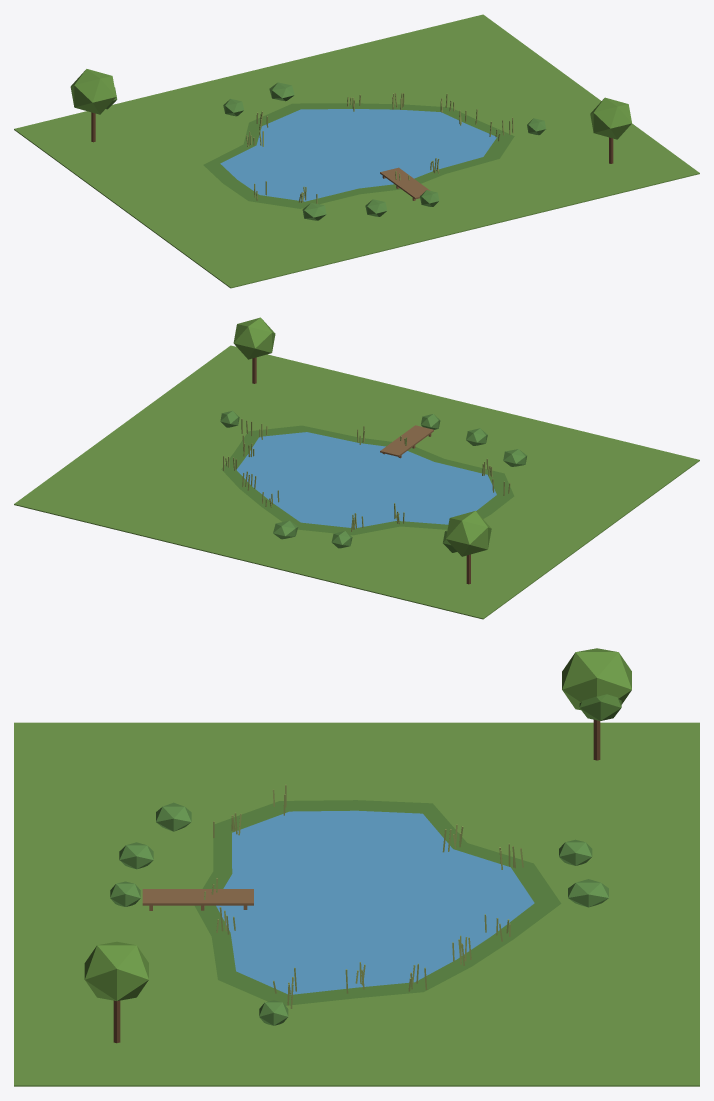
Rendered from Kir_alan_gol_1_Hafif.fbx.
The picture shows the model from 3 angles, top to bottom: view 1: azimuth 30°, elevation 25°; view 2: azimuth 150°, elevation 25°; view 3: azimuth 270°, elevation 25°; orthographic projection. The views are drawn at different scales.
Visible parts, largest first — view 1: Kir_alan_gol_1_Hafif; view 2: Kir_alan_gol_1_Hafif; view 3: Kir_alan_gol_1_Hafif.
Boxes of the visible parts, <box> form: Kir_alan_gol_1_Hafif: <box>14,14,699,288</box>; Kir_alan_gol_1_Hafif: <box>14,317,699,619</box>; Kir_alan_gol_1_Hafif: <box>14,648,699,1086</box>.
Bounding box in the file's own units: 50 × 7.08 × 40.
